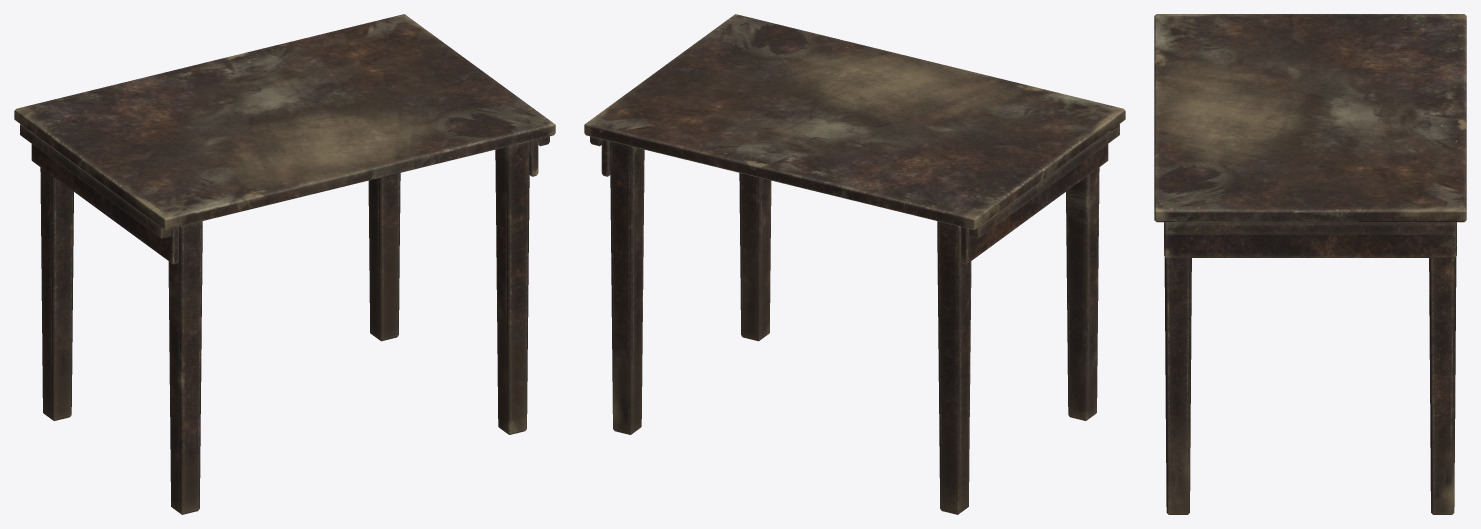
Rendered from table.glb.
The picture shows the model from 3 angles, left to right: view 1: azimuth 30°, elevation 25°; view 2: azimuth 150°, elevation 25°; view 3: azimuth 270°, elevation 25°; orthographic projection. The views are drawn at different scales.
Parts seen in each view (by area): view 1: table_low; view 2: table_low; view 3: table_low.
Boxes of the visible parts, <box> form: table_low: <box>14,14,555,514</box>; table_low: <box>584,14,1125,514</box>; table_low: <box>1154,14,1466,514</box>.
Bounding box in the file's own units: 2.16 × 1.61 × 1.44.
1 material, 1 textured.
